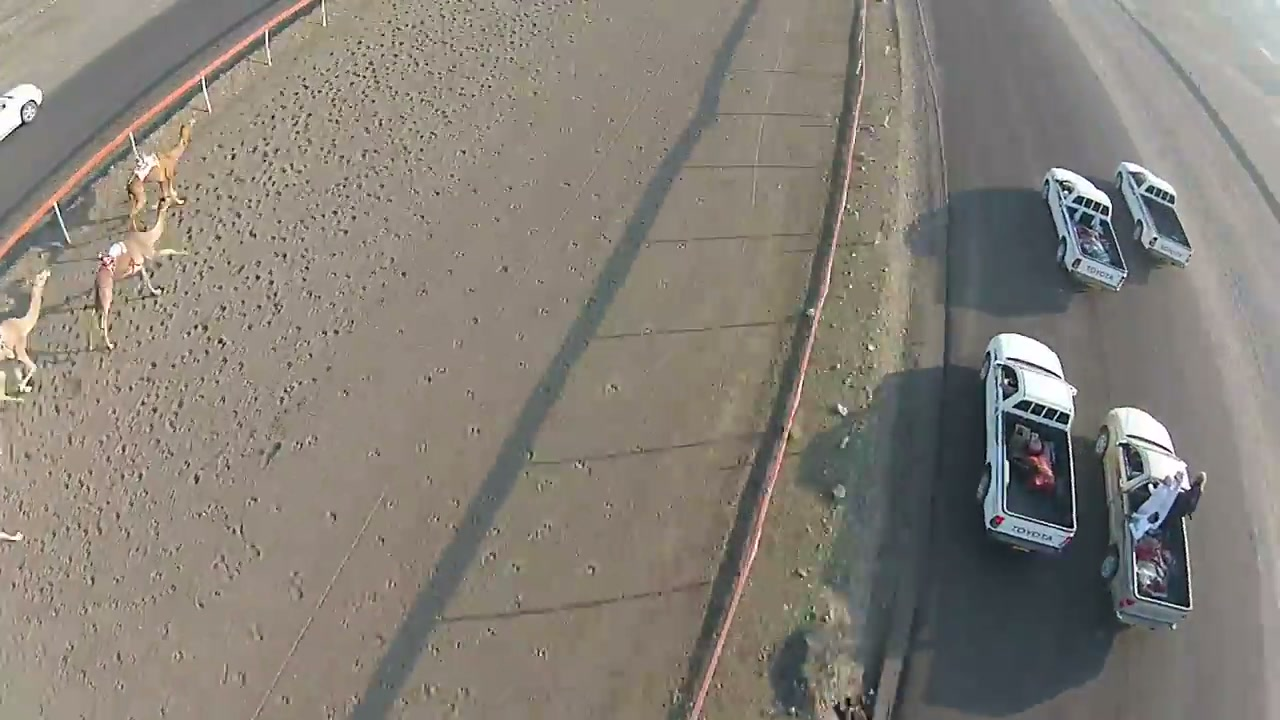animal_foot_print: (20, 7, 497, 655)
